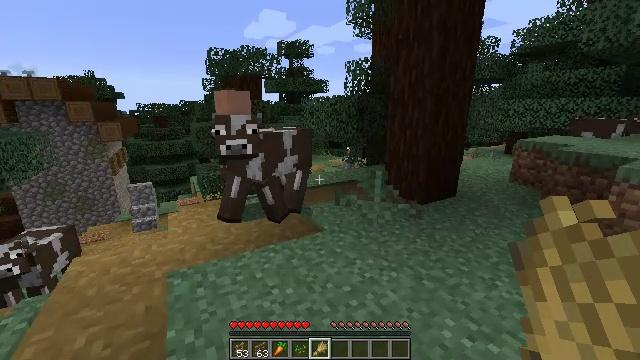cow: (213, 115, 312, 221), (0, 227, 88, 299), (573, 117, 640, 139)
